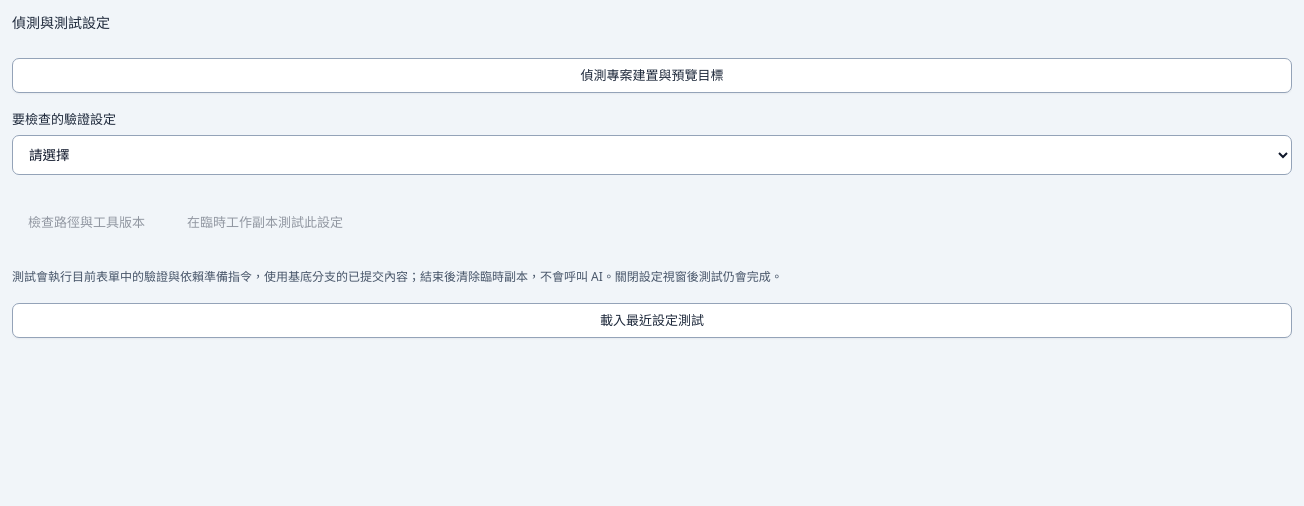
Test case: reopens an interrupted diagnostic from durable history and shows the retained workspace
This screenshot has width=1304, height=506.
Click the button "載入最近設定測試": (652, 320) top-left (12, 303), bottom-right (1292, 338)
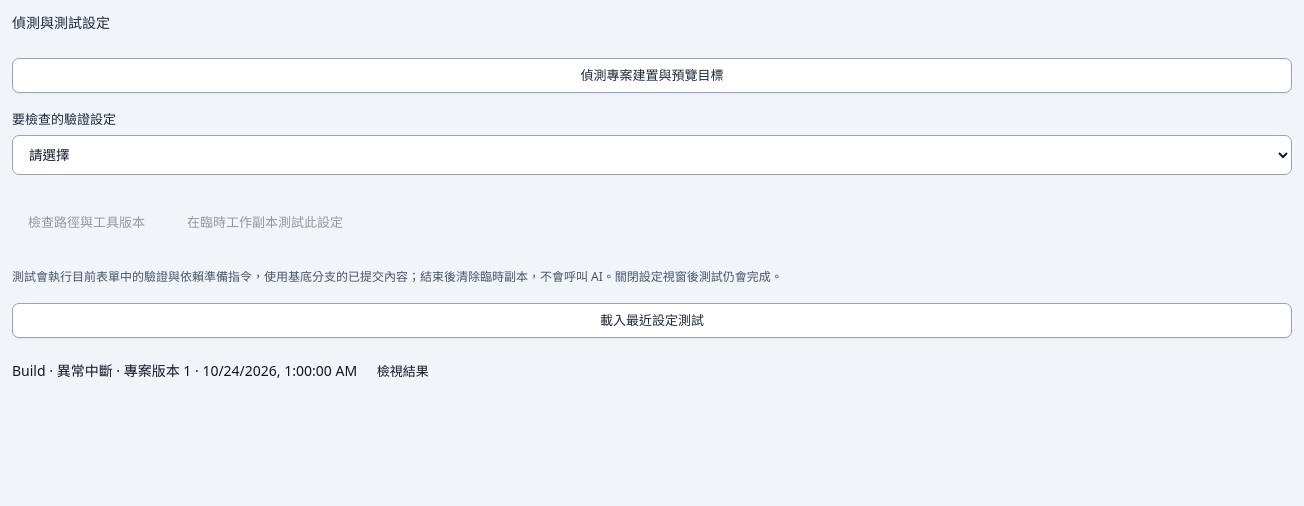
Click the button "檢視結果": (403, 372) top-left (361, 354), bottom-right (445, 390)
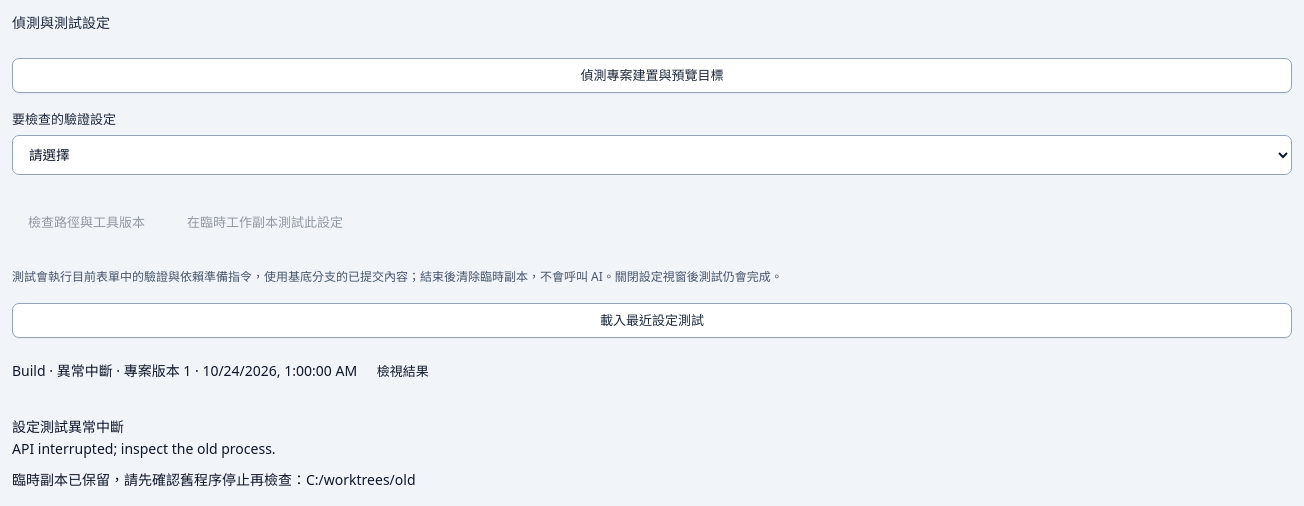
Result: the text "設定測試異常中斷" is shown at top-left (12, 417), bottom-right (416, 489)
Result: the text "臨時副本已保留，請先確認舊程序停止再檢查：C:/worktrees/old" is shown at top-left (12, 470), bottom-right (416, 489)
